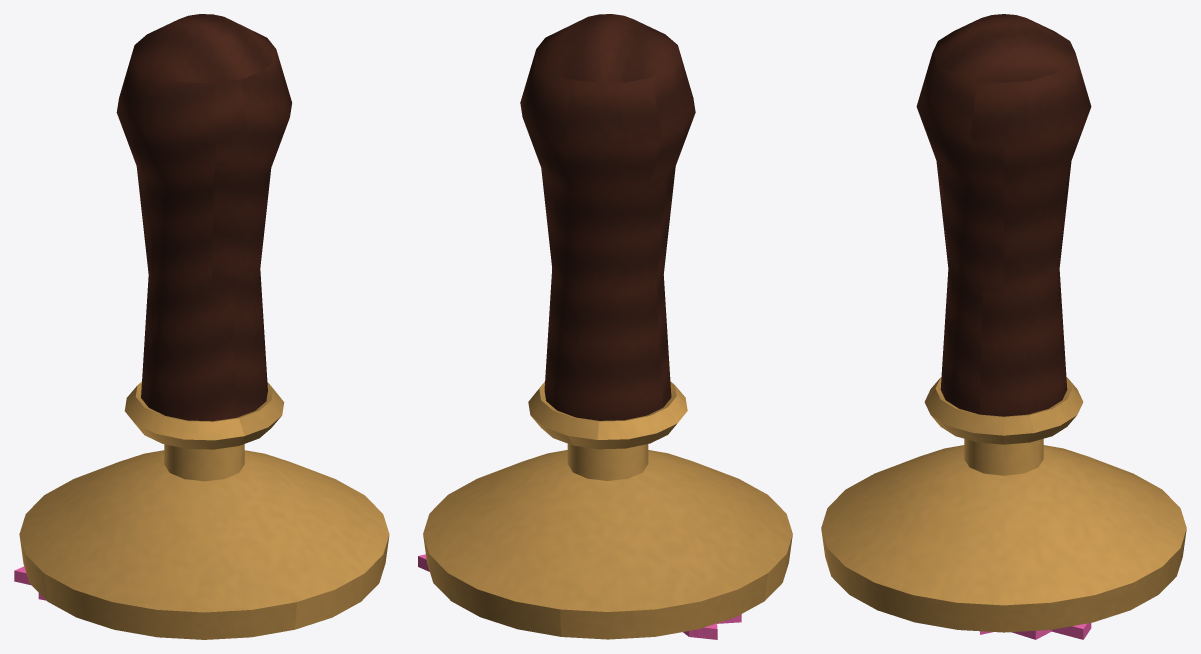
File: Fan_CrestStamp.fbx
3 views of the same model, side by side, from view 1: azimuth 30°, elevation 25°; view 2: azimuth 150°, elevation 25°; view 3: azimuth 270°, elevation 25° (orthographic).
Visible parts, largest first — view 1: Fan_CrestStamp; view 2: Fan_CrestStamp; view 3: Fan_CrestStamp.
Boxes of the visible parts, bbox=[...] form: Fan_CrestStamp: bbox=[14, 14, 389, 639]; Fan_CrestStamp: bbox=[418, 14, 792, 639]; Fan_CrestStamp: bbox=[821, 14, 1186, 639].
Bounding box in the file's own units: 0.092 × 0.151 × 0.092.
Materials: 3 (3 with a texture image).
